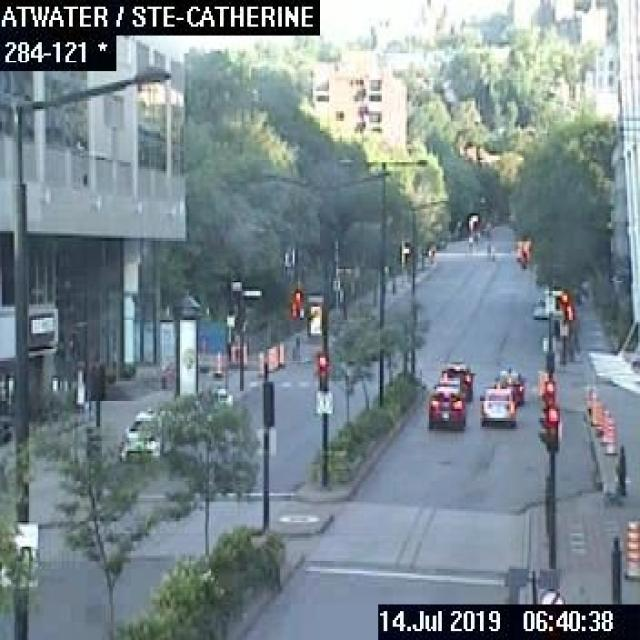construction: (622, 516, 638, 576), (605, 418, 614, 456), (599, 409, 608, 443), (594, 401, 602, 434), (590, 398, 598, 425), (266, 347, 272, 370), (278, 342, 283, 365), (272, 344, 276, 368), (257, 351, 261, 372)
vehicle: (116, 404, 174, 458), (427, 384, 465, 429), (478, 382, 514, 424), (440, 359, 474, 400), (493, 365, 525, 403), (211, 386, 231, 408)
